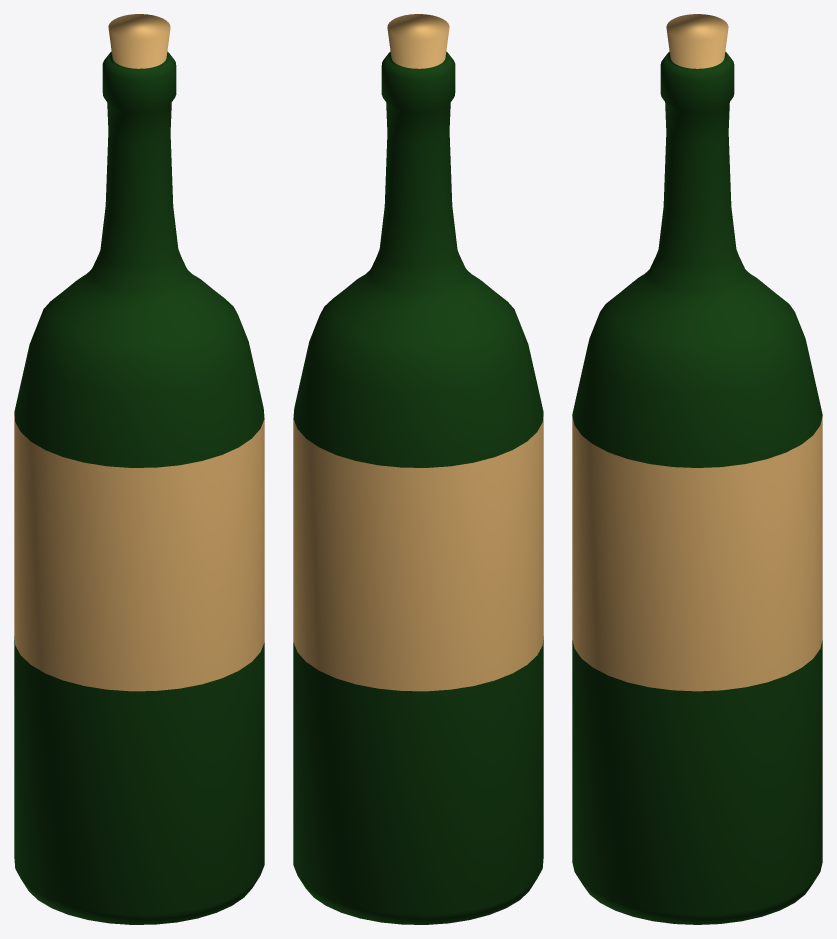
The model's file is champagne.fbx.
3 renders of one model, left to right at view 1: azimuth 30°, elevation 25°; view 2: azimuth 150°, elevation 25°; view 3: azimuth 270°, elevation 25°, orthographic.
Parts seen in each view (by area): view 1: Cylinder; view 2: Cylinder; view 3: Cylinder.
Part boxes in pixels (left/top/right/bottom): Cylinder: left=14, top=14, right=264, bottom=924; Cylinder: left=293, top=14, right=543, bottom=924; Cylinder: left=572, top=14, right=822, bottom=924.
Bounding box in the file's own units: 183 × 686 × 183.
